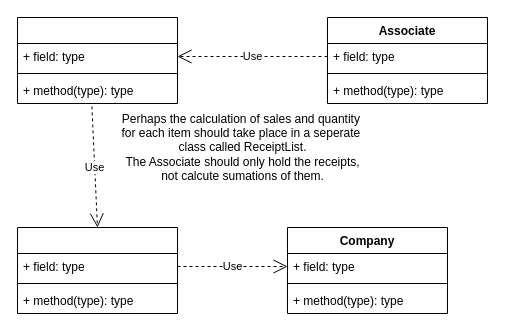
This 505x334 diagram has some shape labels left out. Each missing label, with the box of its shape:
Receipt: (16, 226, 178, 314)
ReceiptList: (16, 16, 178, 104)
